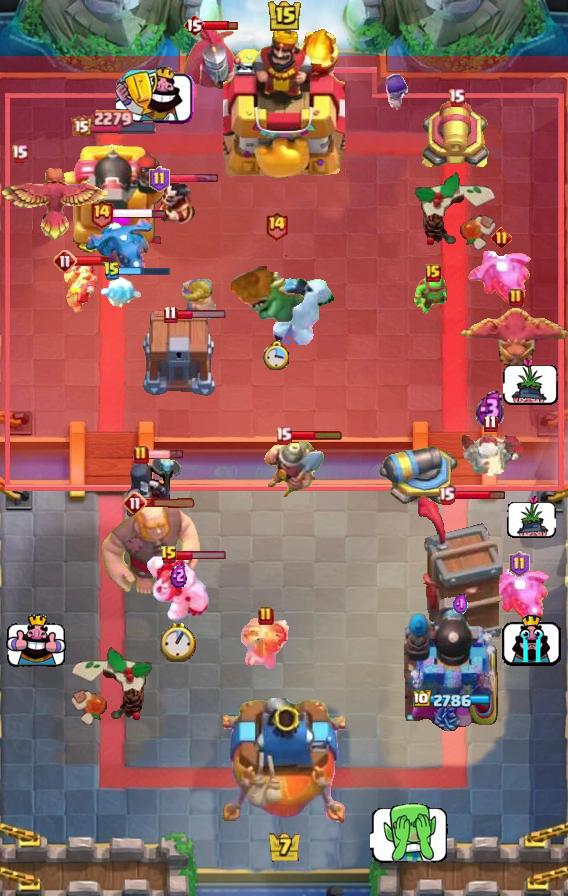balloon: (97, 500, 203, 598)
bandit: (261, 439, 327, 501)
bat: (101, 275, 143, 313)
bomb: (140, 311, 218, 397)
bowler: (61, 260, 101, 318)
dart-goblin: (415, 495, 505, 651)
electro-spirit: (476, 390, 504, 428), (169, 563, 186, 588), (453, 592, 467, 616)
electro-wizard: (230, 242, 322, 324)
elixir: (160, 622, 196, 662), (262, 340, 289, 370)
emote: (113, 207, 168, 220), (289, 429, 343, 441), (119, 265, 171, 277), (145, 498, 197, 510), (453, 490, 506, 501), (167, 173, 219, 184), (177, 308, 228, 319), (177, 551, 228, 562), (202, 19, 238, 31), (75, 255, 111, 267), (148, 448, 185, 459)
giant-snowball: (412, 275, 454, 321)
goblin: (384, 72, 410, 110)
goblin-giant: (180, 276, 216, 323)
golden-knight: (0, 166, 112, 244)
graveyard: (85, 214, 155, 278), (467, 248, 535, 304), (485, 566, 553, 622)
king-tower: (223, 27, 345, 181), (223, 698, 345, 826)
lumberjack: (154, 181, 196, 229)
mini-pekka: (457, 432, 523, 476)
mother-witch: (454, 305, 568, 373)
rage: (145, 555, 211, 623), (272, 277, 336, 345)
rascal-boy: (122, 456, 184, 526)
royal-recruit: (377, 444, 459, 514), (420, 99, 492, 173)
selected: (70, 109, 157, 136), (413, 690, 493, 710)
skeleton: (370, 800, 450, 863), (116, 66, 196, 126), (502, 611, 563, 667), (6, 614, 66, 668), (503, 356, 559, 406), (506, 494, 556, 539)
skeleton-dragon: (239, 616, 293, 670)
text: (89, 198, 114, 229), (263, 210, 288, 241), (53, 249, 77, 273), (123, 491, 147, 515), (509, 551, 531, 577), (149, 166, 170, 192), (183, 13, 205, 37), (492, 227, 513, 249), (103, 261, 121, 281), (160, 545, 178, 565), (447, 89, 465, 107), (275, 427, 293, 445), (437, 486, 454, 505), (508, 288, 524, 308), (133, 445, 149, 465), (258, 606, 274, 626), (11, 145, 28, 163), (425, 264, 441, 282), (163, 304, 178, 323), (483, 414, 497, 433)
tower-bar: (404, 593, 502, 731), (60, 138, 168, 256)
wall-breaker-evolution: (181, 21, 241, 101)
